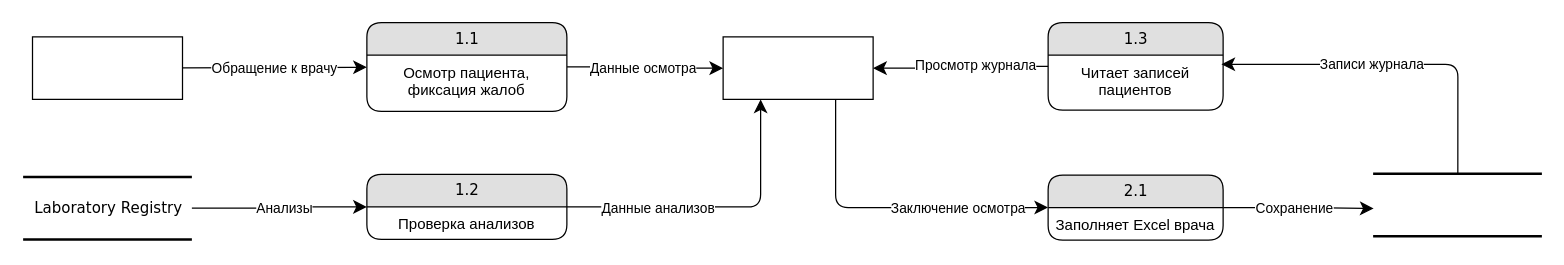
Image size: 1564x265. Some labels were removed from this diagram. Each missing label, with the centre of its shape:
Journals: pixel 1456 204
Врач: pixel 797 67
Пациент: pixel 106 67
